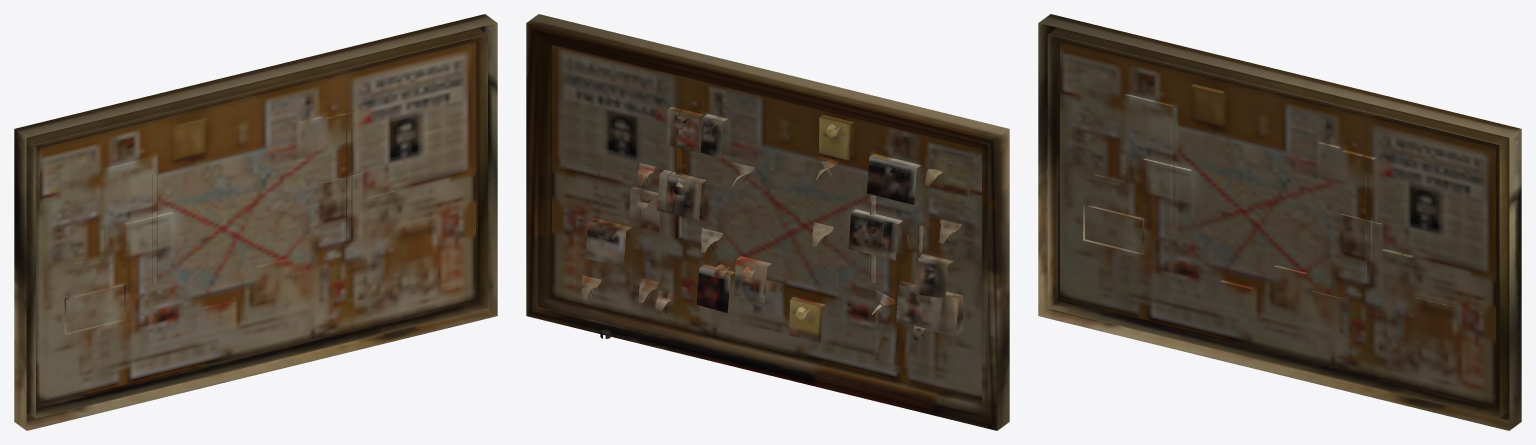
The model's file is OparetionRoom_AI_Prop.039.fbx.
3 renders of one model, left to right at view 1: azimuth 30°, elevation 25°; view 2: azimuth 150°, elevation 25°; view 3: azimuth 330°, elevation 25°, orthographic.
Parts seen in each view (by area): view 1: OparetionRoom_AI_Prop.039; view 2: OparetionRoom_AI_Prop.039; view 3: OparetionRoom_AI_Prop.039.
Part boxes in pixels (box(x1,y1,x2,y2)): OparetionRoom_AI_Prop.039: box(14, 14, 497, 430); OparetionRoom_AI_Prop.039: box(526, 14, 1009, 430); OparetionRoom_AI_Prop.039: box(1038, 14, 1521, 430).
Bounding box in the file's own units: 317 × 188 × 22.5.
